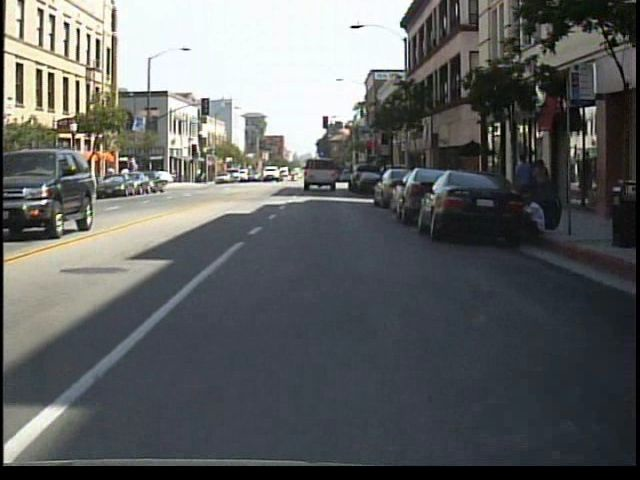person: (510, 149, 535, 220), (529, 157, 553, 218)
